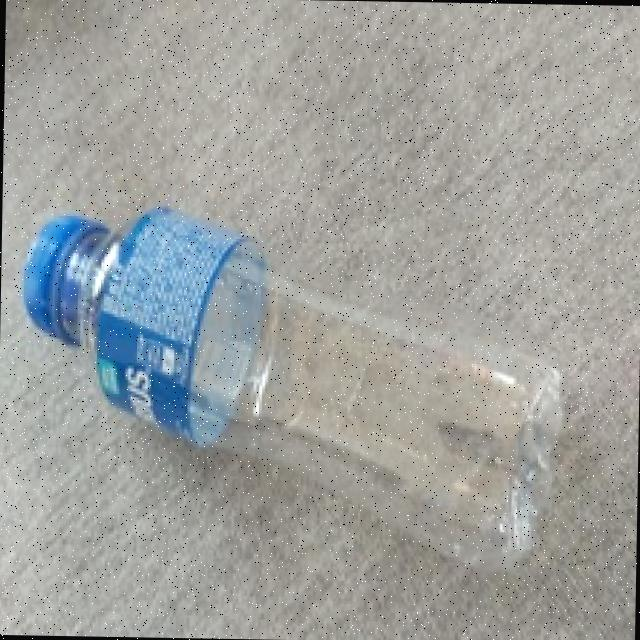bottle: (7, 200, 640, 640)
label: (78, 202, 267, 458)
